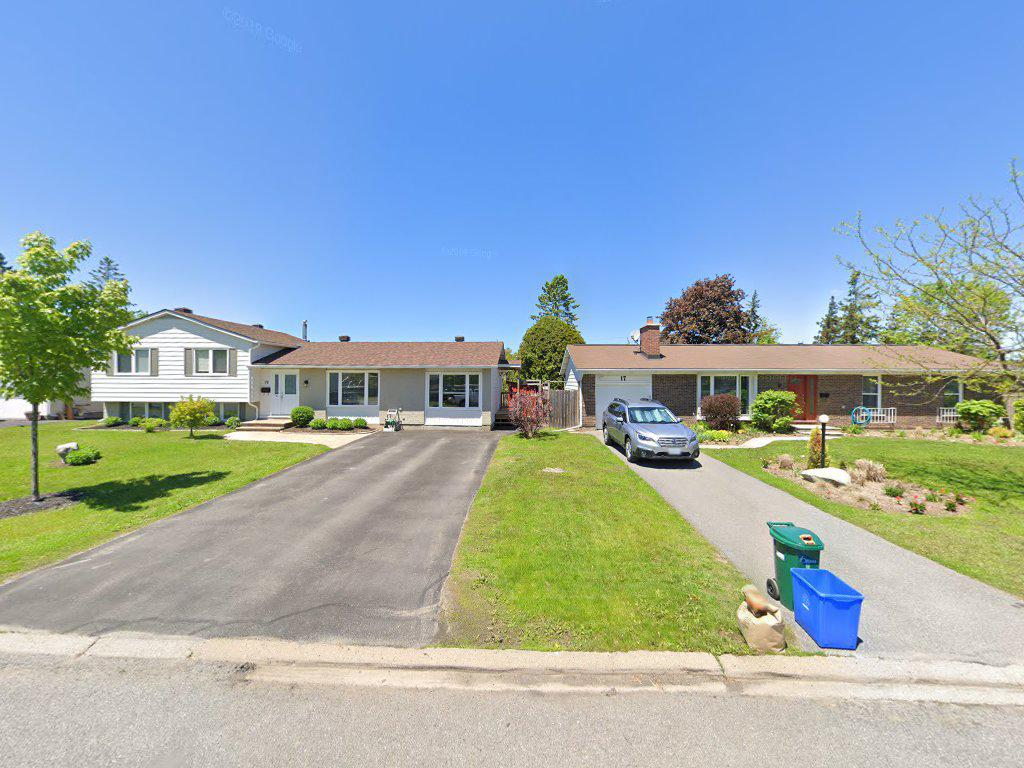trunk: (26, 402, 46, 509)
